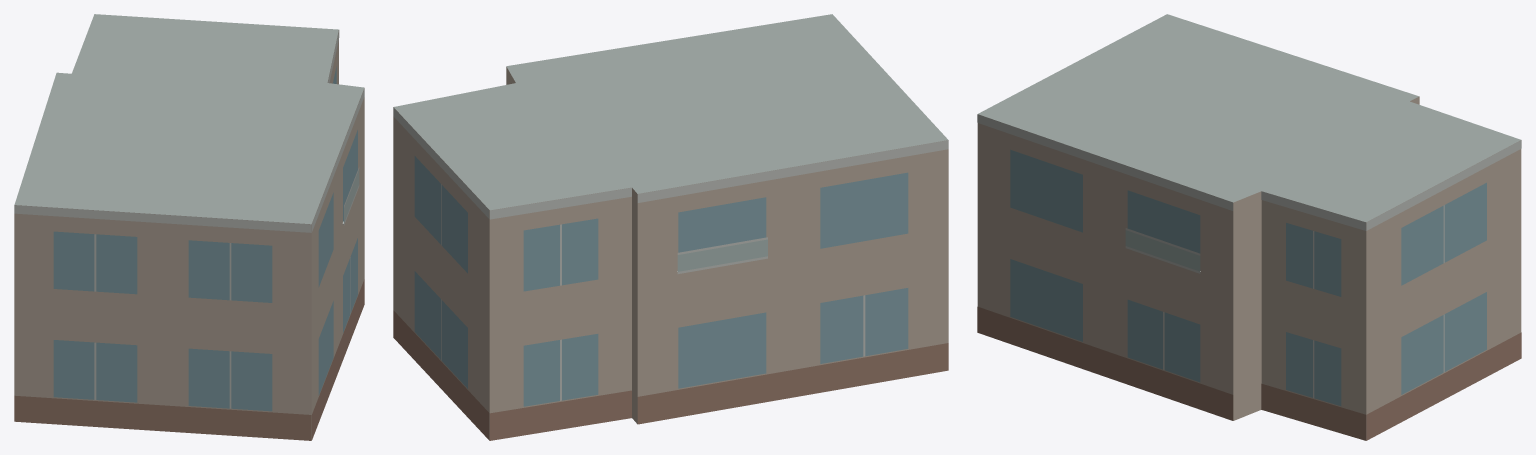
The model's file is survey-upis-32659218.glb.
3 renders of one model, left to right at view 1: azimuth 30°, elevation 25°; view 2: azimuth 150°, elevation 25°; view 3: azimuth 270°, elevation 25°, orthographic. The views are drawn at different scales.
Visible parts, largest first — view 1: survey-upis-32659218.tmp; view 2: survey-upis-32659218.tmp; view 3: survey-upis-32659218.tmp.
Boxes of the visible parts, box(x1,y1,x2,y2) form: survey-upis-32659218.tmp: box(14, 14, 364, 440); survey-upis-32659218.tmp: box(393, 14, 948, 440); survey-upis-32659218.tmp: box(977, 14, 1521, 440).
Bounding box in the file's own units: 12.48 × 6.1 × 13.77.
